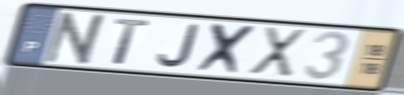3: (304, 30, 355, 83)
J: (155, 23, 201, 69)
N: (40, 10, 112, 67)
T: (110, 17, 153, 67)
X: (193, 21, 262, 78), (245, 25, 309, 81)
